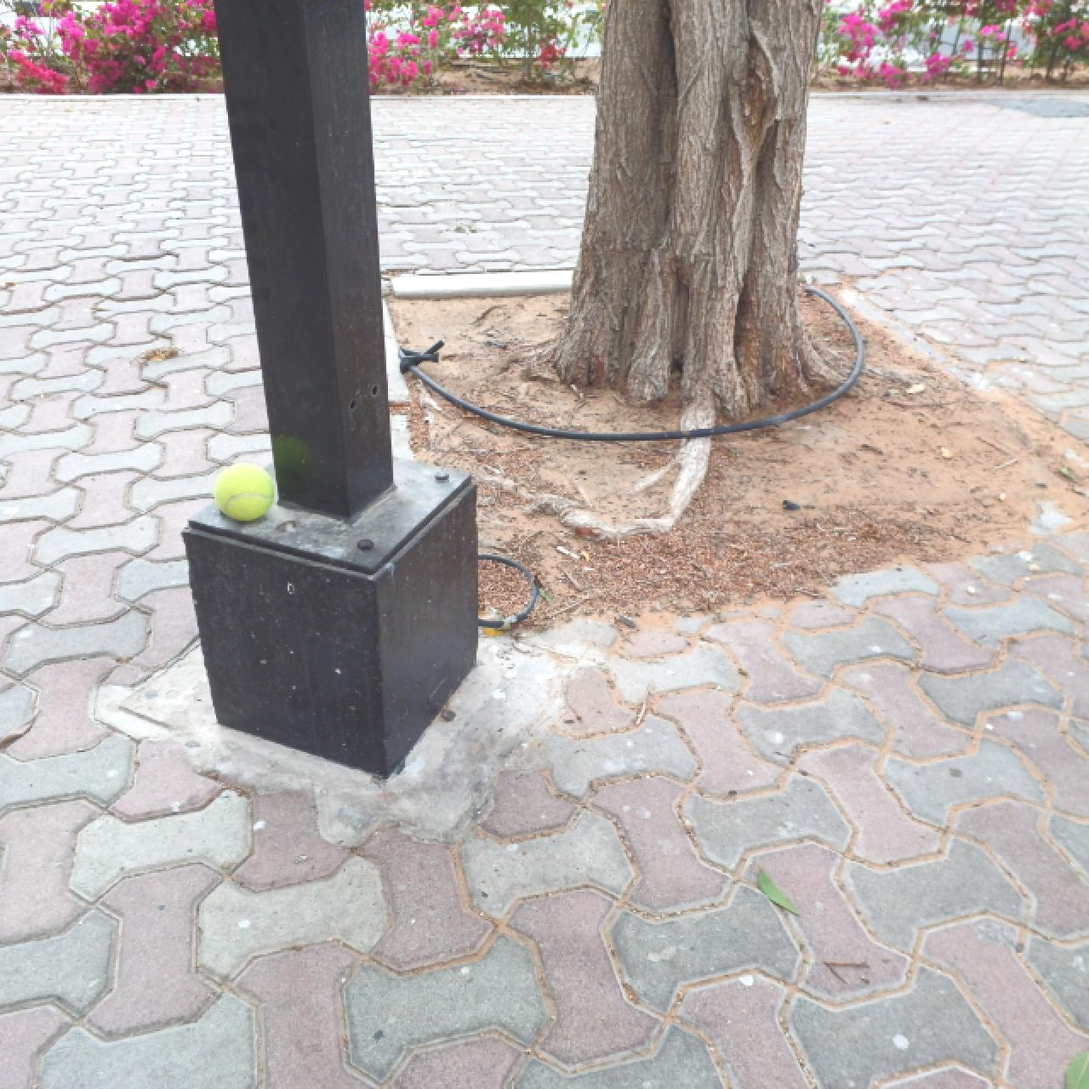tennis-ball: (212, 459, 277, 524)
